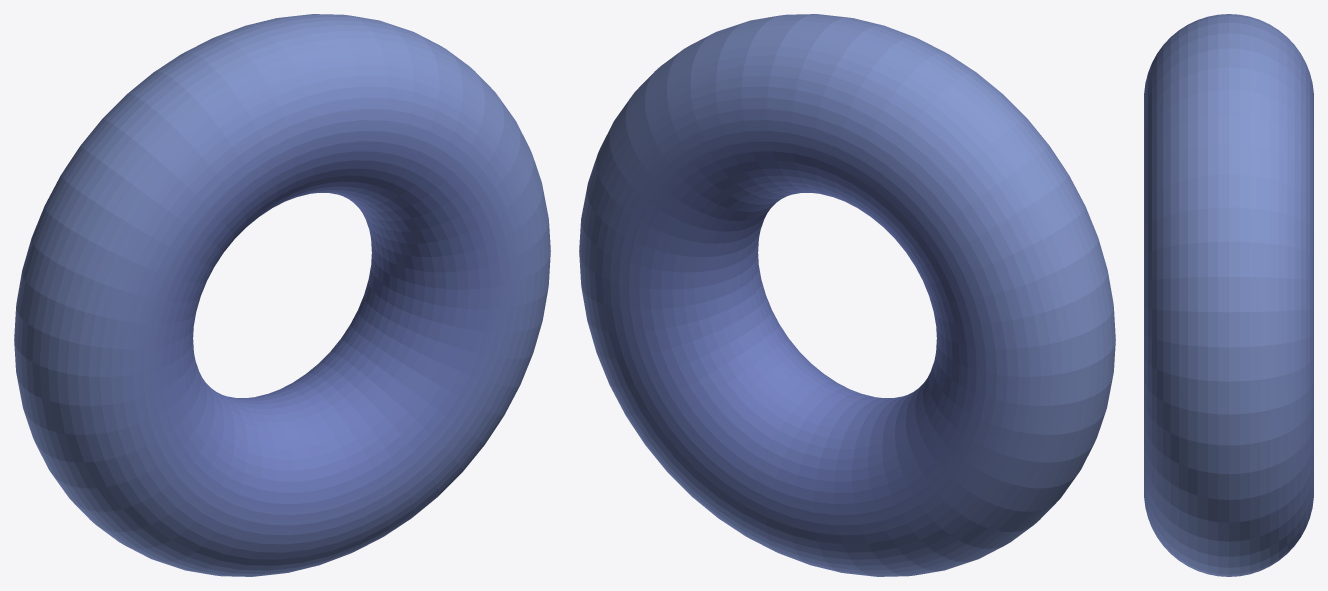
3 renders of one model, left to right at view 1: azimuth 30°, elevation 25°; view 2: azimuth 150°, elevation 25°; view 3: azimuth 270°, elevation 25°, orthographic. The views are drawn at different scales.
Visible parts, largest first — view 1: world; view 2: world; view 3: world.
Boxes of the visible parts, <box> form: world: <box>14,14,550,576</box>; world: <box>579,14,1115,576</box>; world: <box>1144,14,1313,576</box>.
Bounding box in the file's own units: 17.2 × 17.17 × 5.19.
